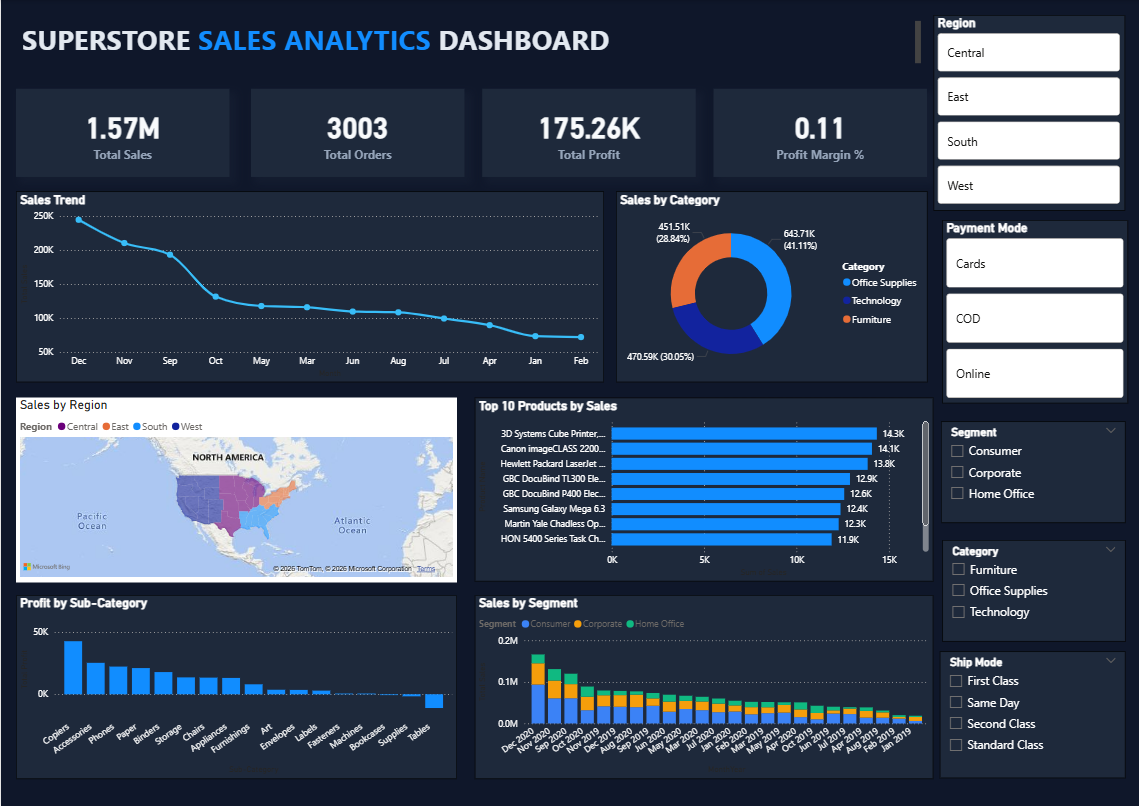

The dashboard page shown, as its layout file describes it:
{"tool":"powerbi","page":{"name":"Page 1","canvas":[1550,1100],"ordinal":0},"visuals":[{"type":"textbox","box":[20.6,20.6,1239.1,78.7],"z":0},{"type":"card","fields":{"Values":["Sheet1.Total Sales"]},"box":[20,120,290,120],"z":1000},{"type":"card","fields":{"Values":["Sheet1.Total Profit"]},"box":[654.3,120,290,120],"z":2000},{"type":"card","fields":{"Values":["Sheet1.Profit Margin %"]},"box":[970,120,290,120],"z":3000},{"type":"card","fields":{"Values":["Sheet1.Total Orders"]},"box":[340,120,290,120],"z":4000},{"type":"lineChart","title":"Sales Trend","fields":{"Category":["DateTable.Month"],"Y":["Sheet1.Total Sales"]},"box":[20,260,800,260],"z":5000},{"type":"donutChart","title":"Sales by Category","fields":{"Y":["Sheet1.Total Sales"],"Category":["Sheet1.Category"]},"box":[836,260,424,260],"z":6000},{"type":"filledMap","title":"Sales by Region","fields":{"Category":["Sheet1.State"],"Series":["Sheet1.Region"]},"box":[20,540,600,250],"z":7000},{"type":"barChart","title":"Top 10 Products by Sales","fields":{"Category":["Sheet1.Product Name"],"Y":["Sum(Sheet1.Sales)"]},"box":[644,540,624,250],"z":8000},{"type":"clusteredColumnChart","title":"Profit by Sub-Category","fields":{"Category":["Sheet1.Sub-Category"],"Y":["Sheet1.Total Profit"]},"box":[20,810,600,250],"z":9000},{"type":"columnChart","title":"Sales by Segment","fields":{"Category":["Sheet1.MonthYear "],"Series":["Sheet1.Segment"],"Y":["Sheet1.Total Sales"]},"box":[644,810,624,250],"z":10000},{"type":"advancedSlicerVisual","fields":{"Values":["Sheet1.Region"]},"box":[1269.1,20.6,260.6,266.2],"z":11000},{"type":"slicer","fields":{"Values":["Sheet1.Category"]},"box":[1280.3,734.8,249.3,138.7],"z":12000},{"type":"slicer","fields":{"Values":["Sheet1.Segment"]},"box":[1278.5,573.6,251.2,138.7],"z":13000},{"type":"slicer","fields":{"Values":["Sheet1.Ship Mode"]},"box":[1276.6,886.7,253.1,172.5],"z":14000},{"type":"advancedSlicerVisual","fields":{"Values":["Sheet1.Payment Mode"]},"box":[1280.3,299.9,253.1,249.3],"z":15000}]}

Visuals, with their boxes in screenshot pixels (x1, y1, x2, y2), scaled from the page's 1550x1100 canvas onto the 1139x806 screenshot:
textbox: {"x1": 15, "y1": 15, "x2": 926, "y2": 73}
card - Sheet1.Total Sales: {"x1": 15, "y1": 88, "x2": 228, "y2": 176}
card - Sheet1.Total Profit: {"x1": 481, "y1": 88, "x2": 694, "y2": 176}
card - Sheet1.Profit Margin %: {"x1": 713, "y1": 88, "x2": 926, "y2": 176}
card - Sheet1.Total Orders: {"x1": 250, "y1": 88, "x2": 463, "y2": 176}
"Sales Trend" lineChart: {"x1": 15, "y1": 191, "x2": 603, "y2": 381}
"Sales by Category" donutChart: {"x1": 614, "y1": 191, "x2": 926, "y2": 381}
"Sales by Region" filledMap: {"x1": 15, "y1": 396, "x2": 456, "y2": 579}
"Top 10 Products by Sales" barChart: {"x1": 473, "y1": 396, "x2": 932, "y2": 579}
"Profit by Sub-Category" clusteredColumnChart: {"x1": 15, "y1": 594, "x2": 456, "y2": 777}
"Sales by Segment" columnChart: {"x1": 473, "y1": 594, "x2": 932, "y2": 777}
advancedSlicerVisual - Sheet1.Region: {"x1": 933, "y1": 15, "x2": 1124, "y2": 210}
slicer - Sheet1.Category: {"x1": 941, "y1": 538, "x2": 1124, "y2": 640}
slicer - Sheet1.Segment: {"x1": 939, "y1": 420, "x2": 1124, "y2": 522}
slicer - Sheet1.Ship Mode: {"x1": 938, "y1": 650, "x2": 1124, "y2": 776}
advancedSlicerVisual - Sheet1.Payment Mode: {"x1": 941, "y1": 220, "x2": 1127, "y2": 402}
